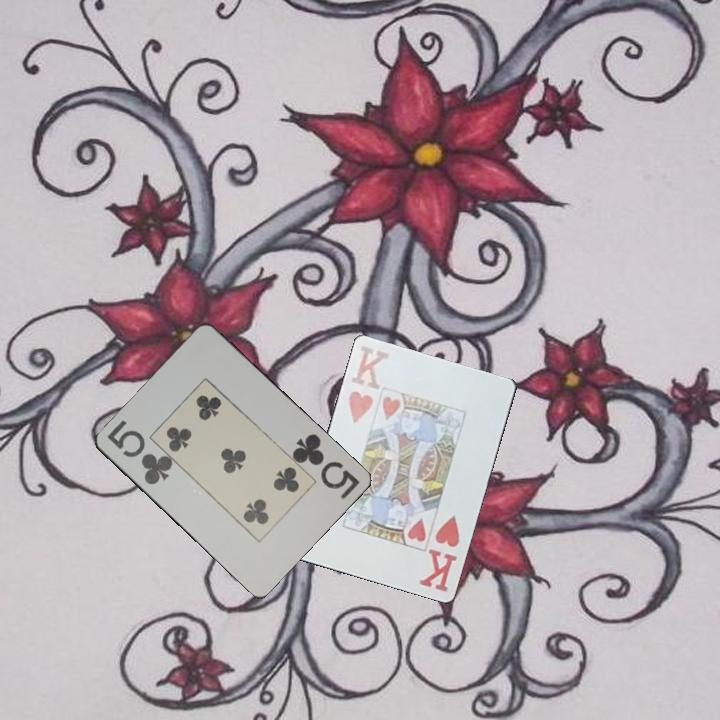5c: (288, 430, 362, 503), (103, 416, 175, 488)
Kh: (416, 511, 463, 595), (345, 343, 392, 427)
